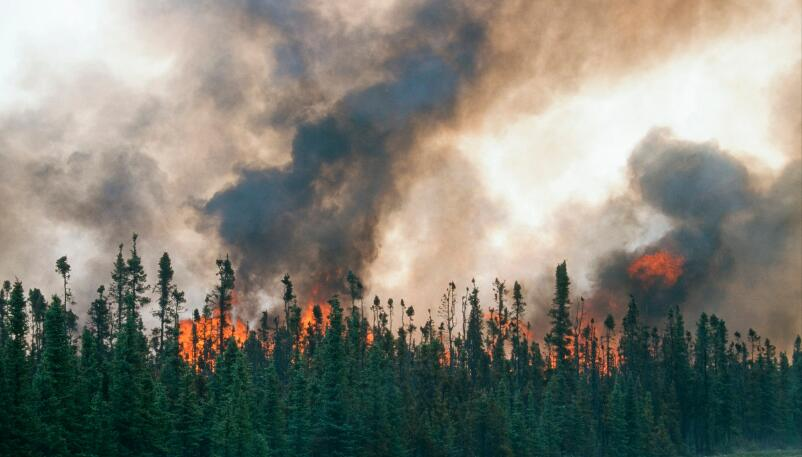fire: (175, 286, 377, 374), (435, 304, 622, 380), (623, 251, 688, 278)
smoke: (0, 1, 801, 331)
